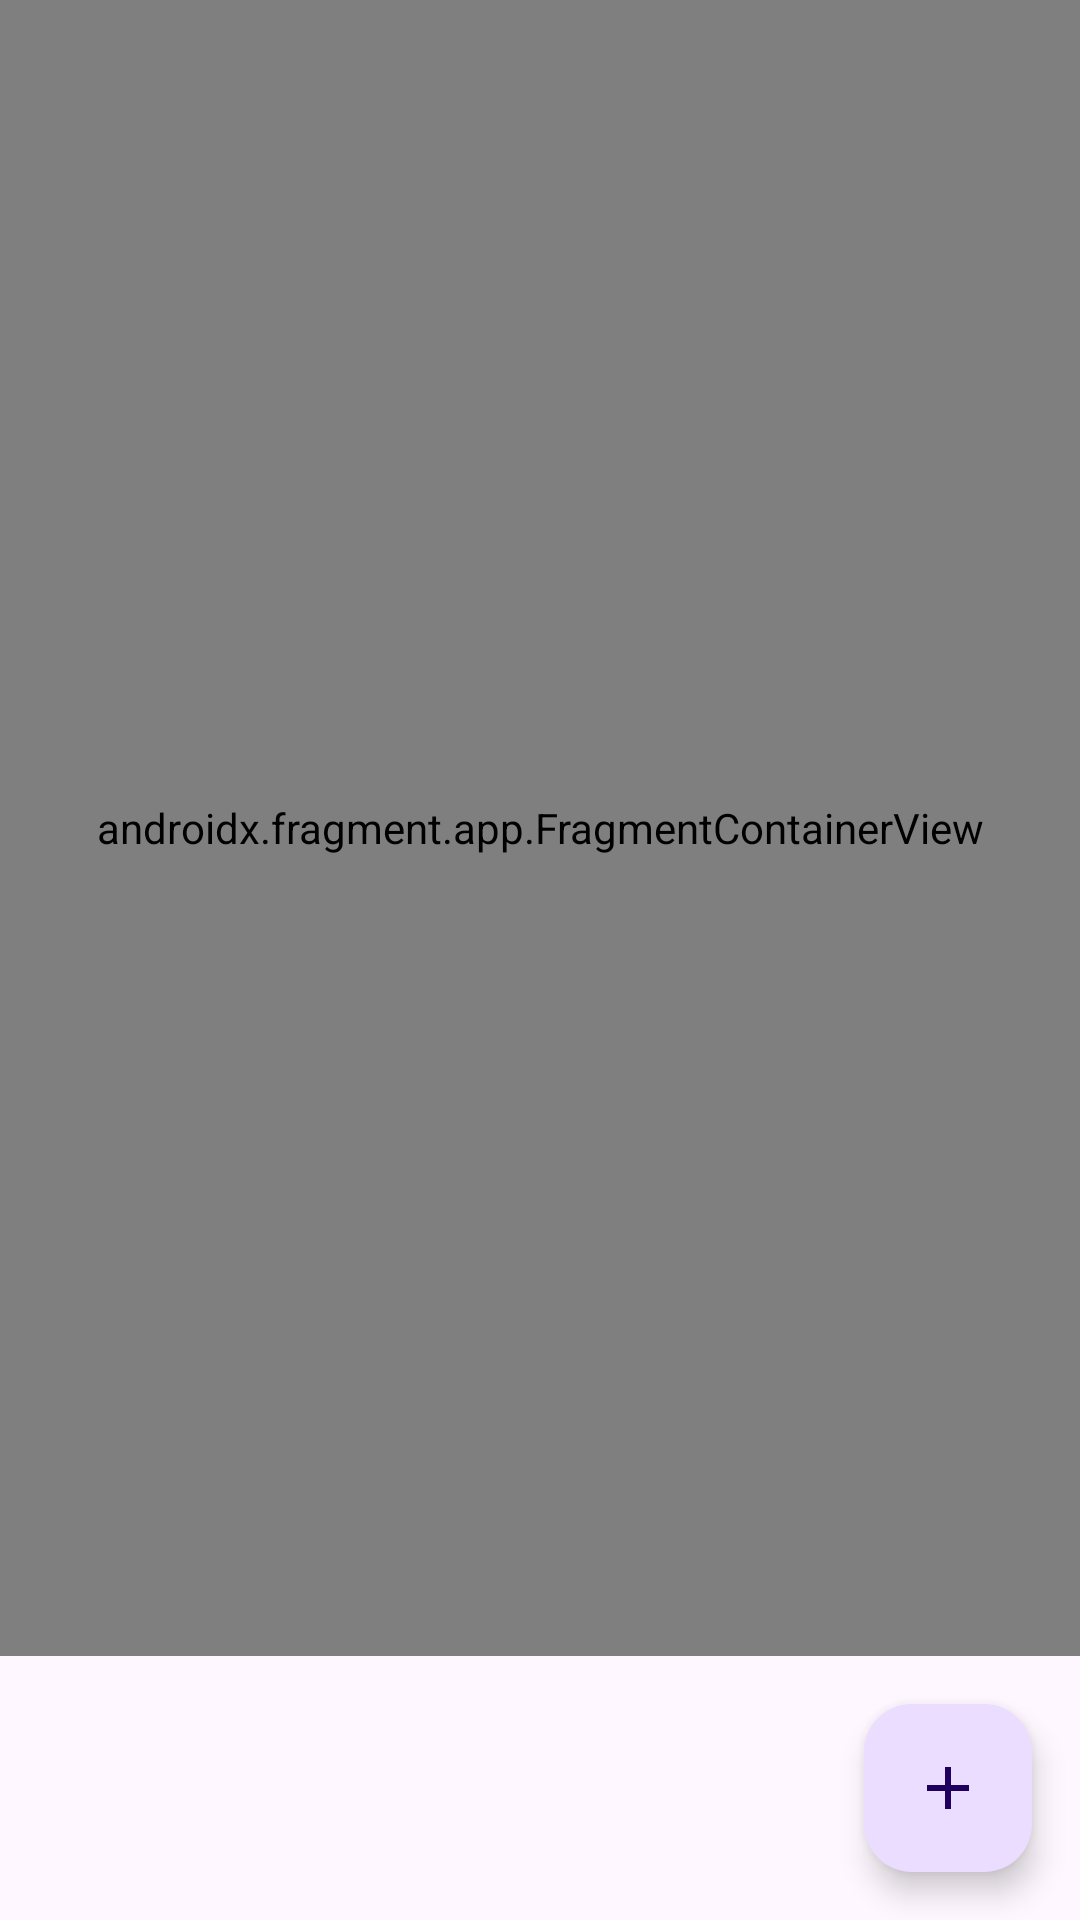

Icon bounding boxes for this 1080 x 1920 phone screenshot, format rect(x1, y1, x2, y2):
Add a new profile: rect(864, 1704, 1032, 1872)
